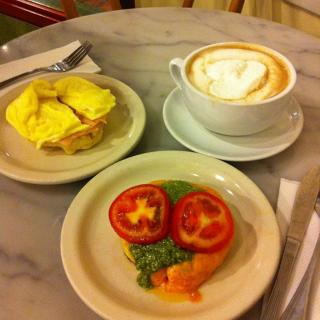Tomato: (109, 192, 177, 250), (171, 193, 235, 250)
